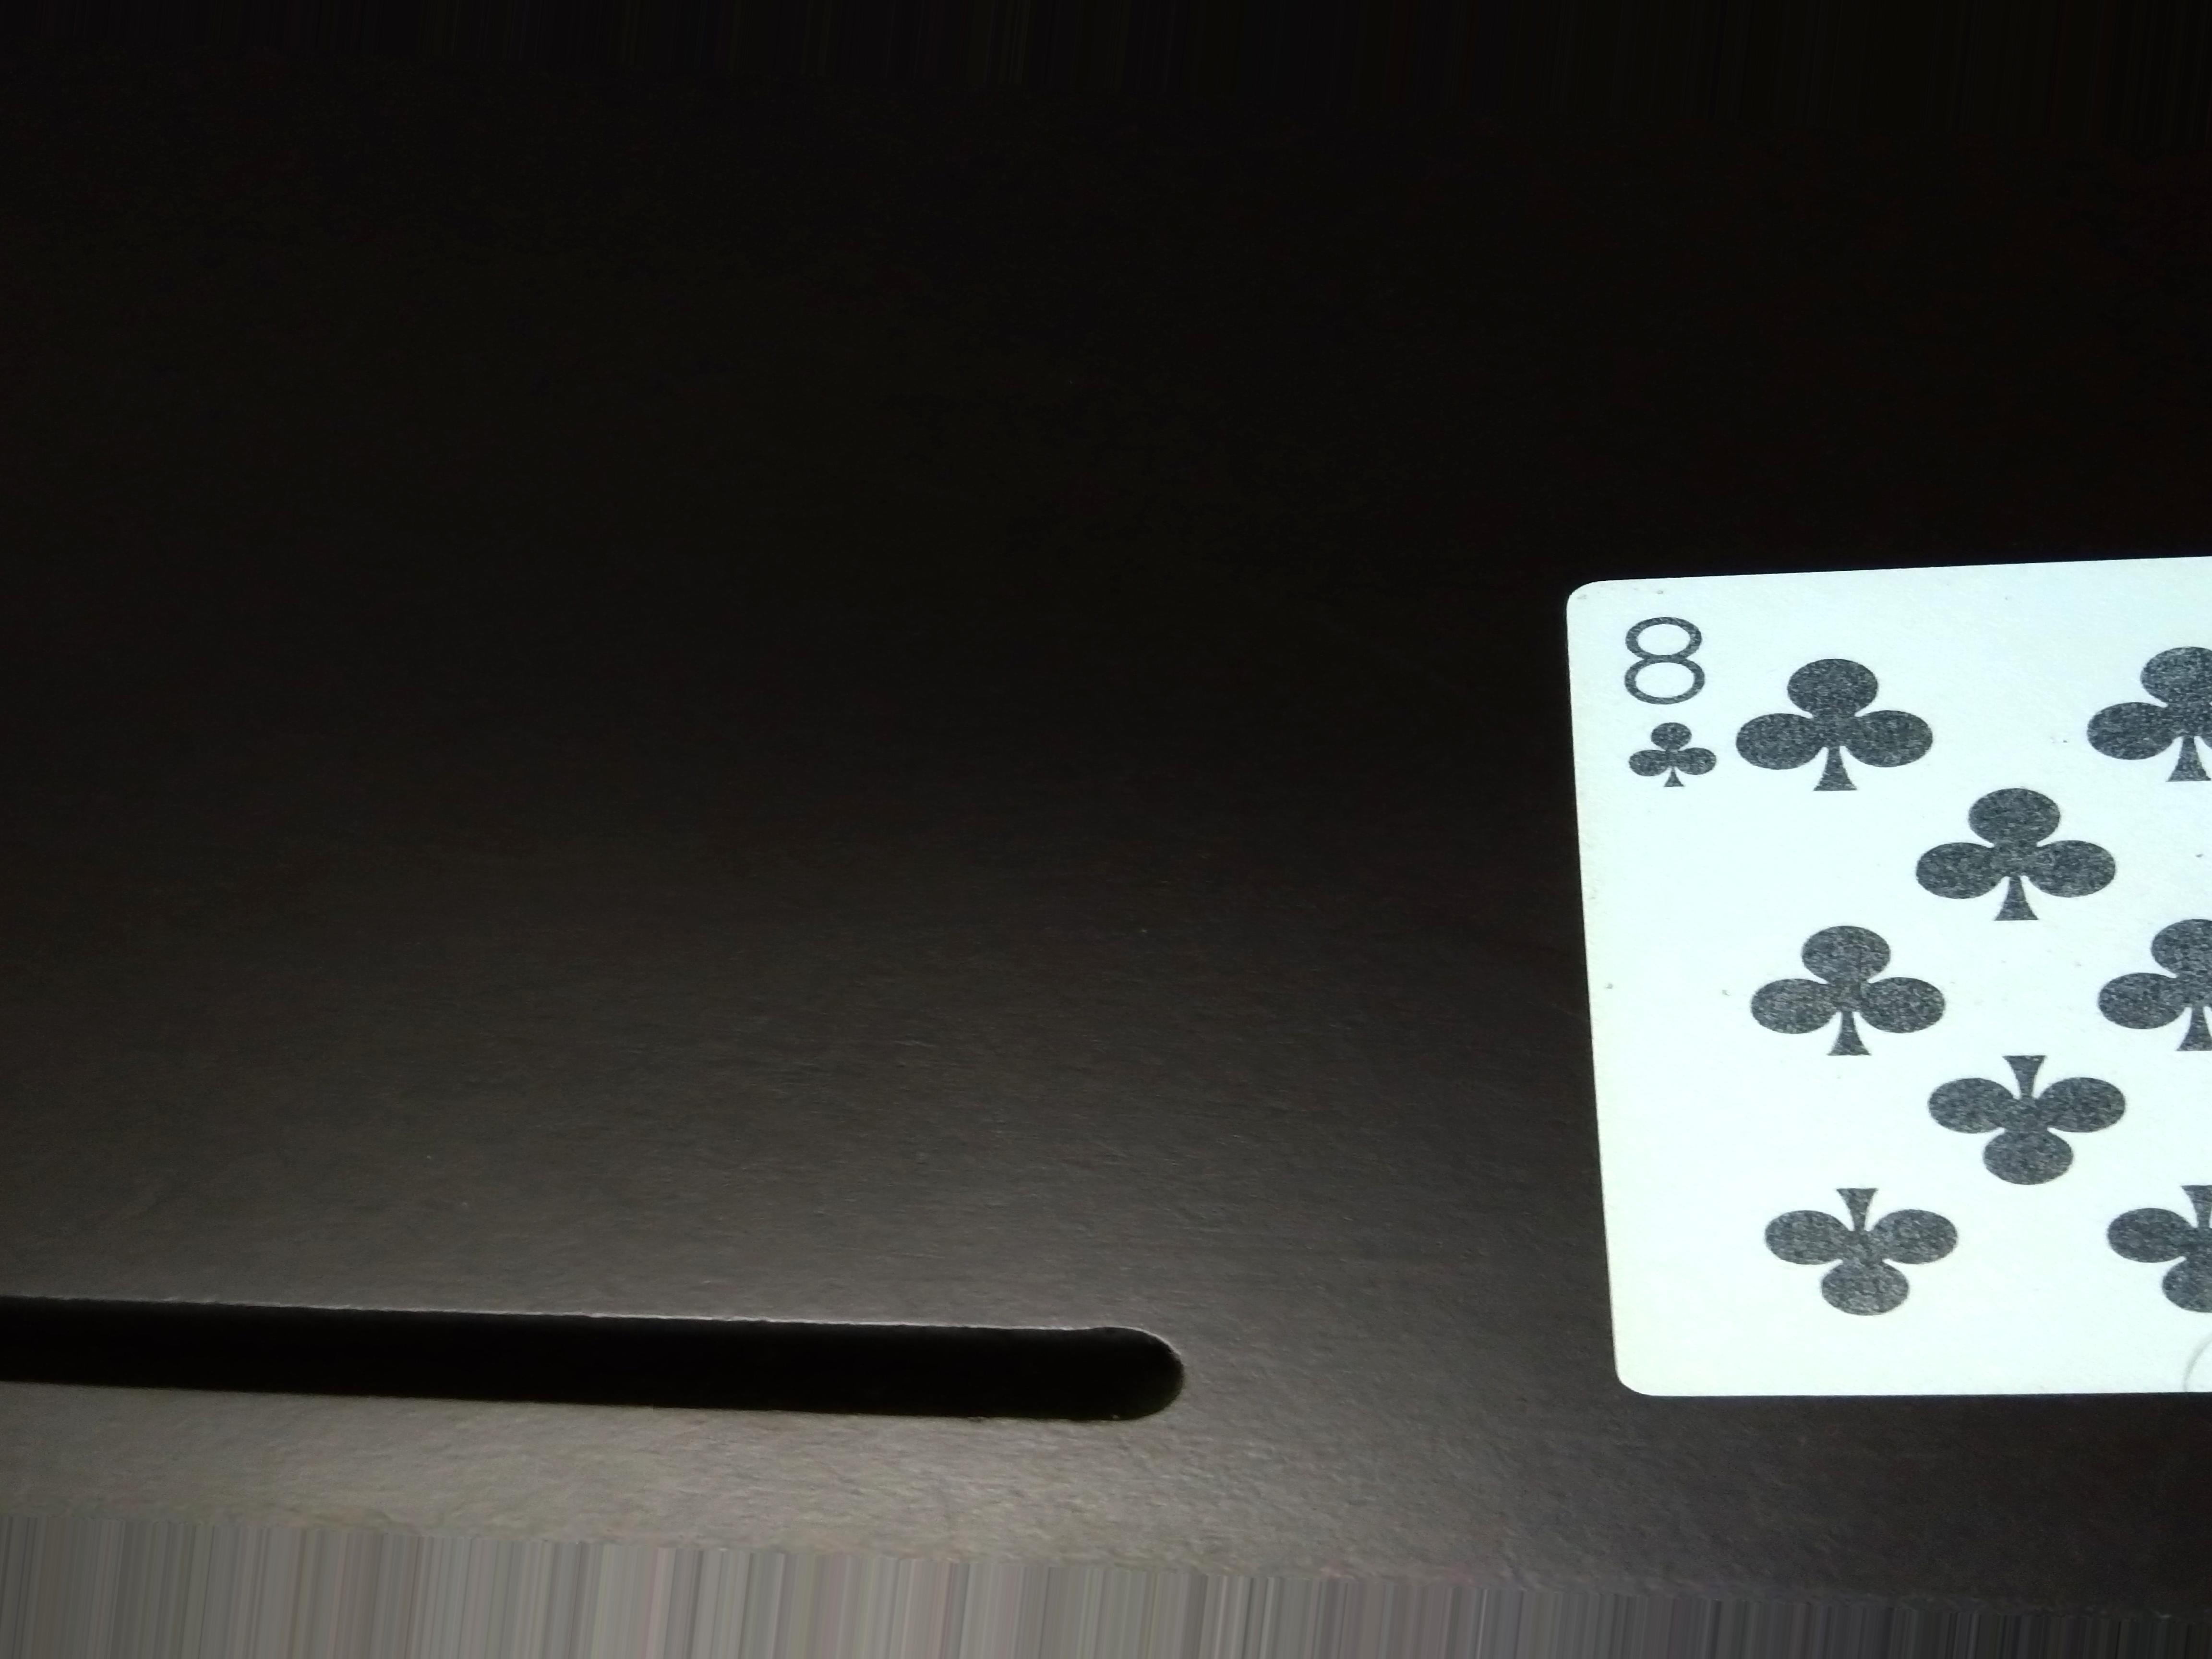8C: (1623, 610, 1712, 803)
